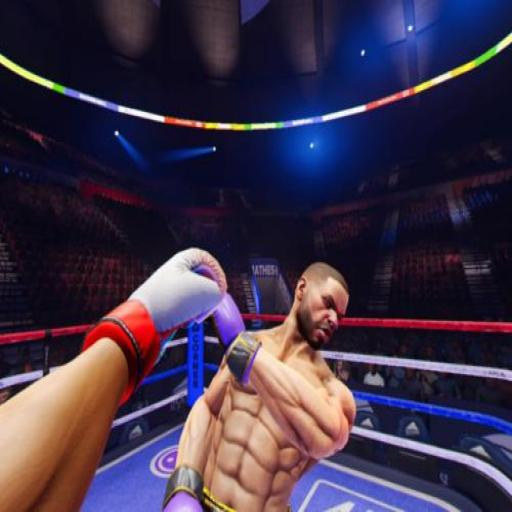boxing: (0, 164, 426, 512)
